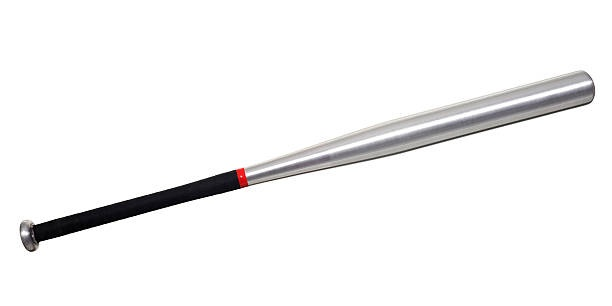bita: (16, 72, 594, 253)
